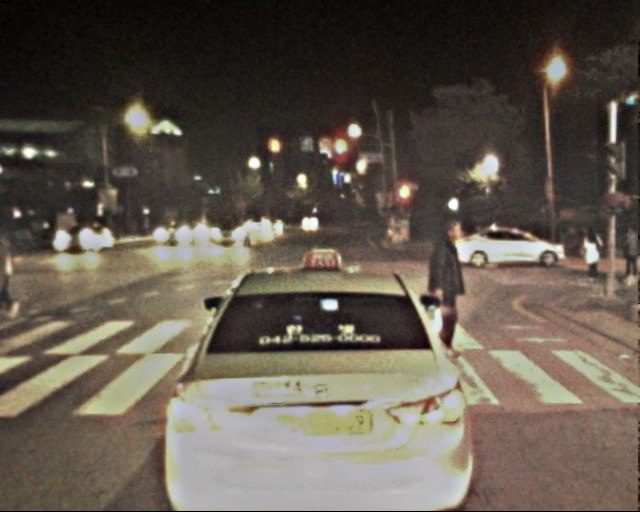person: (419, 221, 483, 377), (1, 216, 36, 315), (578, 227, 603, 289), (616, 226, 640, 285)
